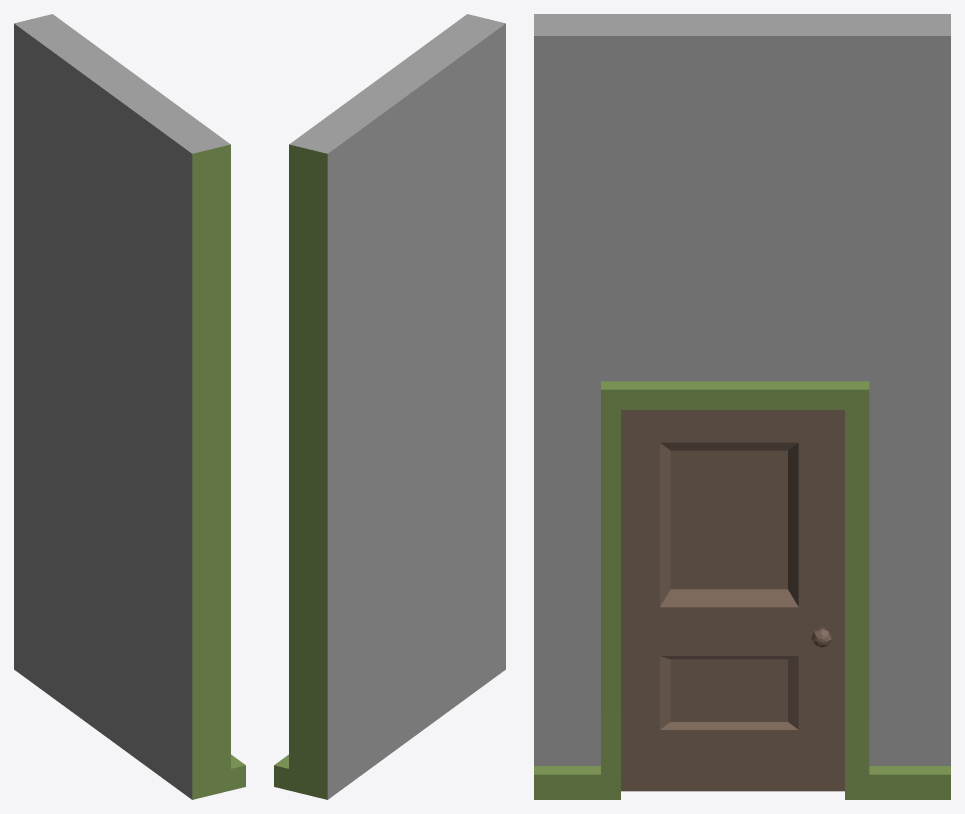
The model's file is SM_wall_door_3.fbx.
3 views of the same model, side by side, from view 1: azimuth 30°, elevation 25°; view 2: azimuth 150°, elevation 25°; view 3: azimuth 270°, elevation 25° (orthographic). The views are drawn at different scales.
Visible parts, largest first — view 1: door_wall; view 2: door_wall; view 3: door_wall.
Boxes of the visible parts, box(x1,y1,x2,y2) form: door_wall: box(14, 14, 245, 799); door_wall: box(274, 14, 505, 799); door_wall: box(534, 14, 950, 799).
Size of the model in its own units: 0.367 by 4 by 2.
